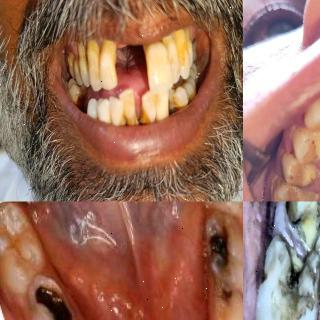calculus: (275, 151, 320, 190), (266, 172, 318, 202), (295, 125, 320, 165), (303, 99, 320, 139), (124, 110, 140, 126), (141, 104, 153, 125), (71, 89, 85, 106), (184, 90, 196, 108), (166, 98, 178, 114), (116, 113, 129, 127)
cavities: (40, 295, 72, 320), (211, 230, 231, 266), (222, 284, 234, 301)
maligned: (144, 35, 170, 93), (119, 86, 137, 127), (109, 95, 127, 123), (139, 90, 155, 120)
